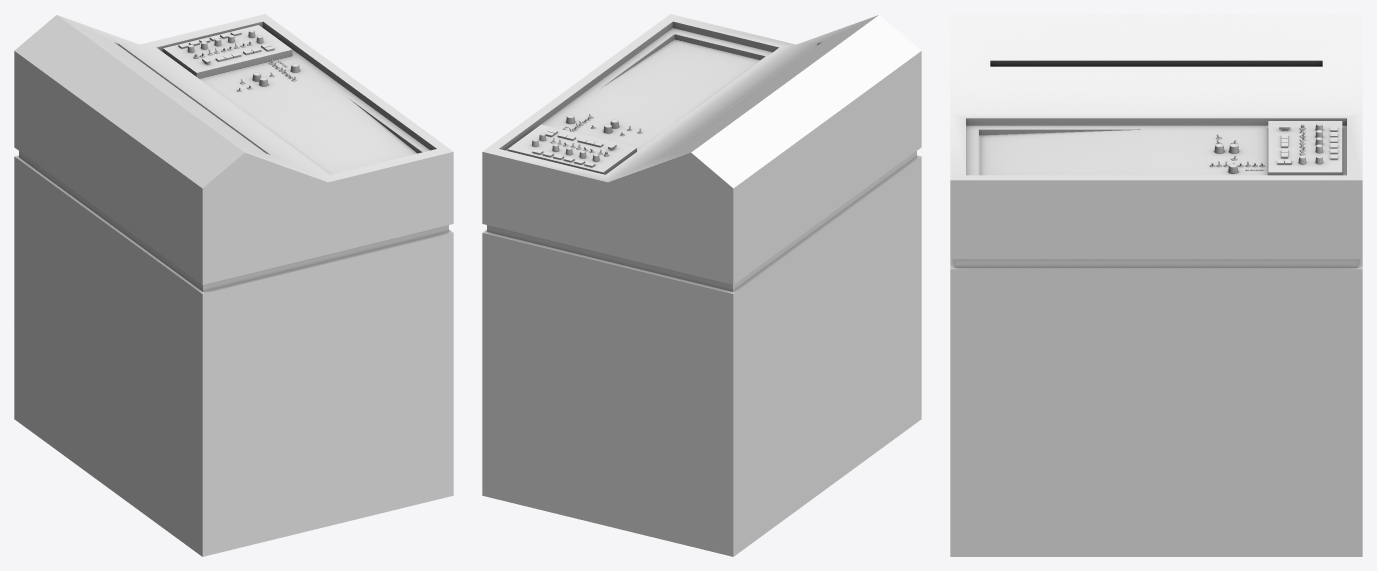
The model's file is Shredder.fbx.
The picture shows the model from 3 angles, left to right: view 1: azimuth 30°, elevation 25°; view 2: azimuth 150°, elevation 25°; view 3: azimuth 270°, elevation 25°; orthographic projection. The views are drawn at different scales.
Visible parts, largest first — view 1: Cube; view 2: Cube; view 3: Cube.
Boxes of the visible parts, <box> form: Cube: <box>14,14,453,556</box>; Cube: <box>482,14,921,556</box>; Cube: <box>950,14,1362,556</box>.
Bounding box in the file's own units: 0.8381 × 0.6457 × 0.9681.
